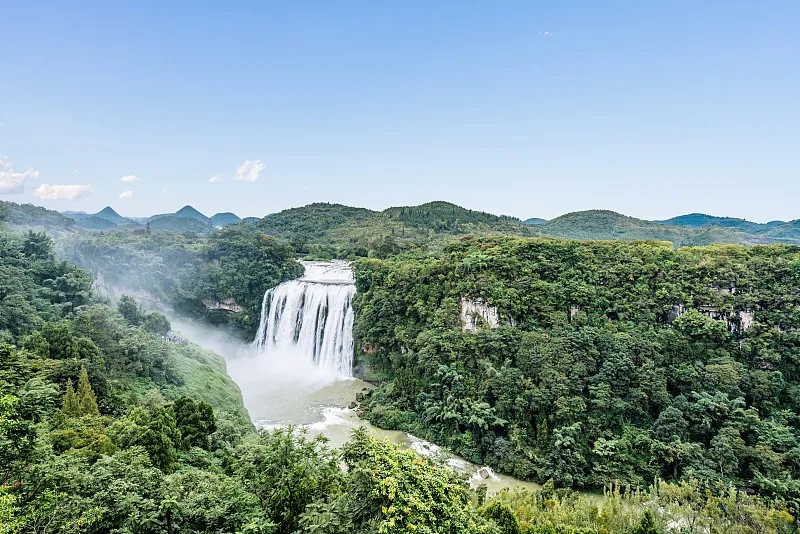Huangguoshu: (254, 260, 357, 379)
